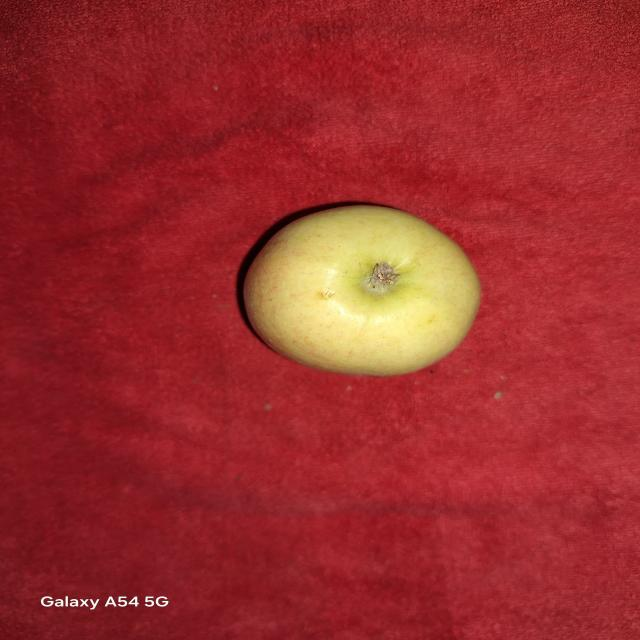mango: (242, 203, 482, 377)
